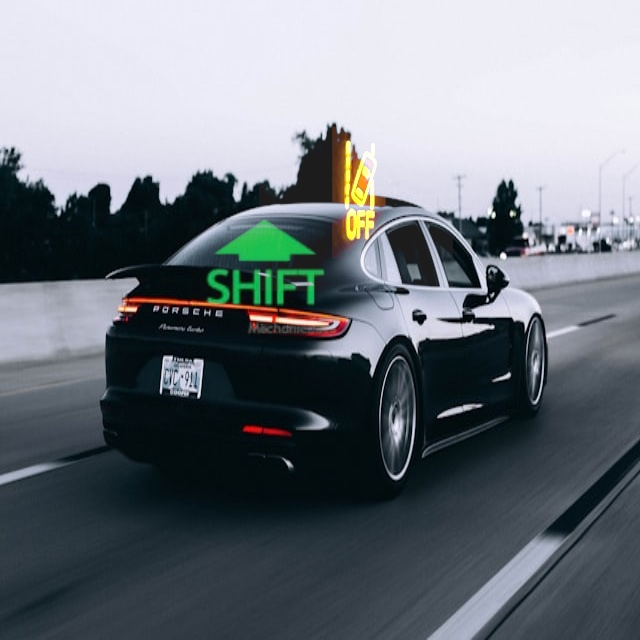symbol: (259, 97, 453, 291), (188, 187, 342, 341)
